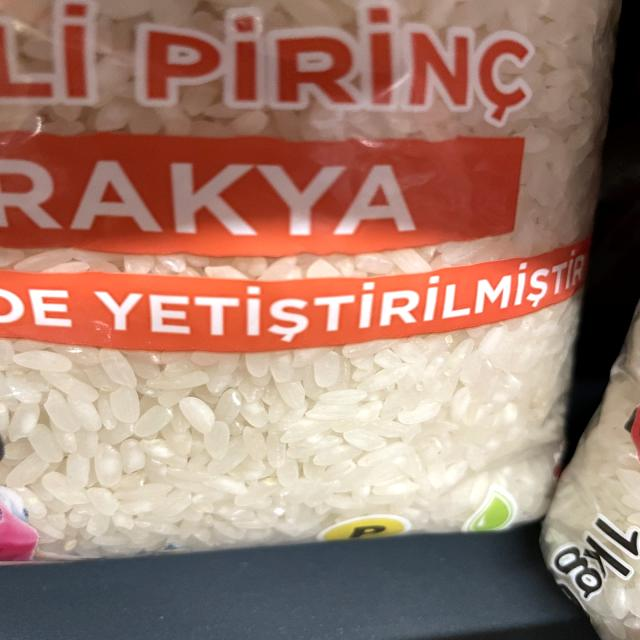rice: (38, 368, 458, 500)
